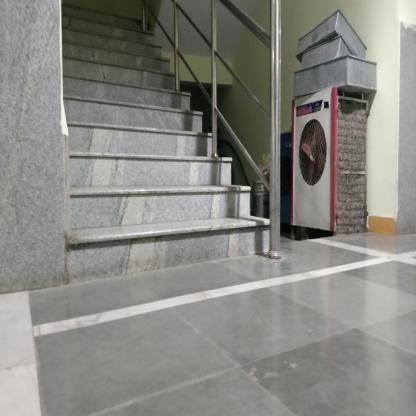stairs: (71, 124, 212, 281)
